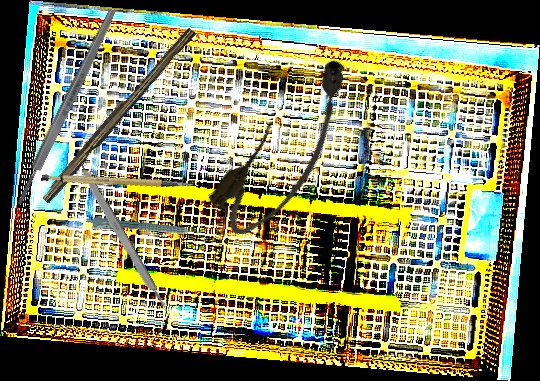Cannula: (200, 48, 378, 249)
Handpiece: (85, 216, 202, 241)
Scalpel Handle: (38, 22, 197, 207), (13, 7, 119, 207), (75, 162, 169, 313), (40, 153, 194, 212)
